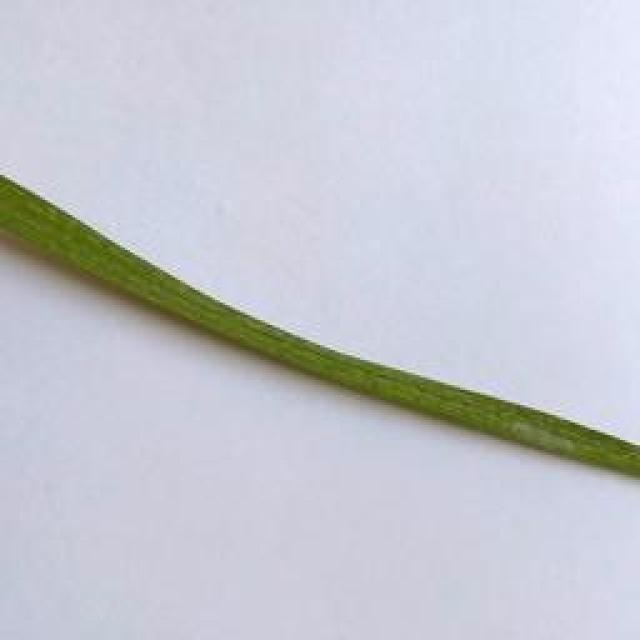Healthy-Plant: (0, 170, 640, 479)
